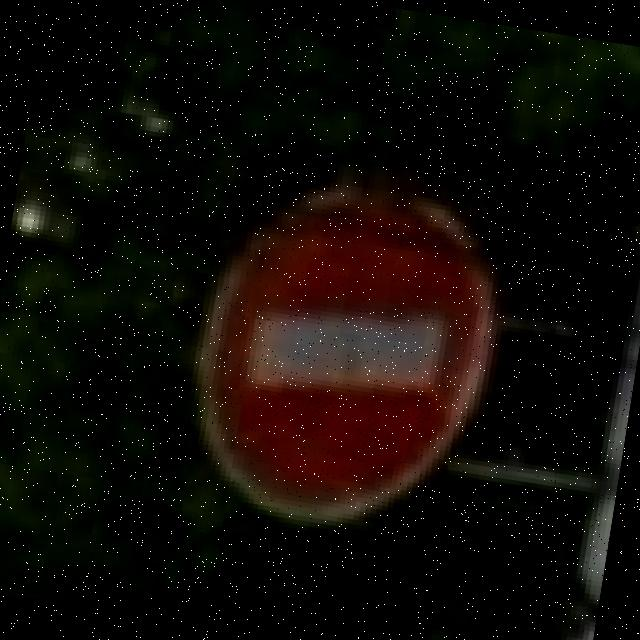Zakaz wjazdu: (172, 153, 518, 555)
